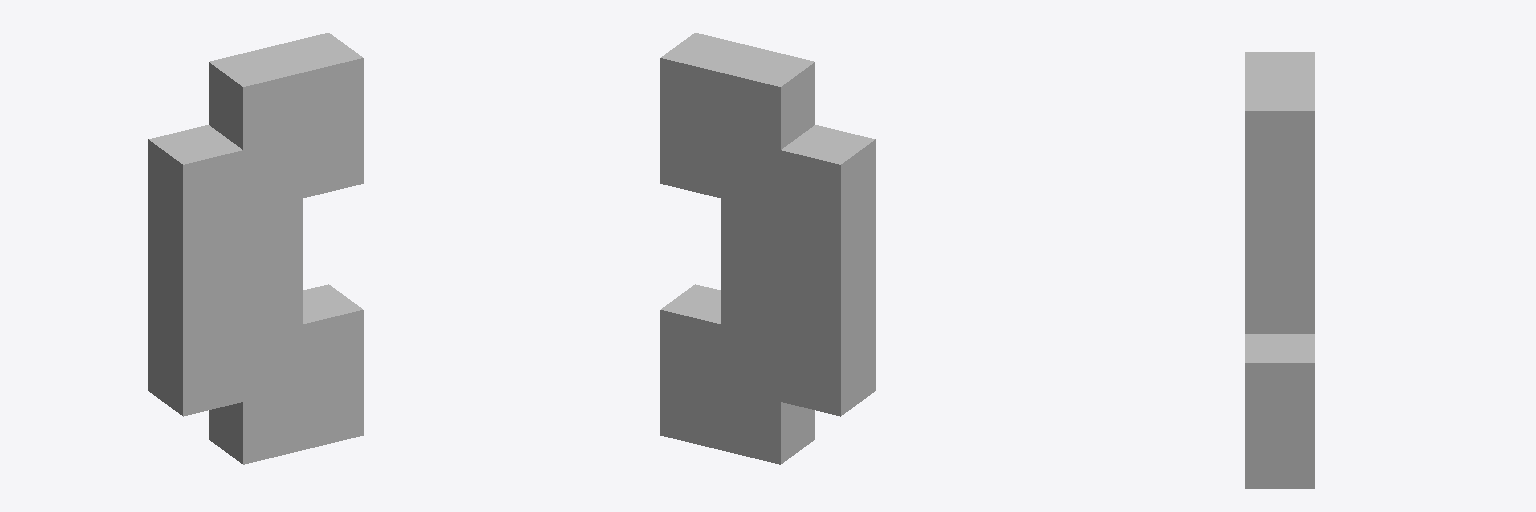
File: Pez Payaso-0.obj
3 renders of one model, left to right at view 1: azimuth 30°, elevation 25°; view 2: azimuth 150°, elevation 25°; view 3: azimuth 270°, elevation 25°, orthographic.
Visible parts, largest first — view 1: object 1; view 2: object 1; view 3: object 1.
Boxes of the visible parts, x1=… form: object 1: x1=148, y1=33, x2=363, y2=464; object 1: x1=660, y1=33, x2=875, y2=464; object 1: x1=1245, y1=52, x2=1314, y2=488.
Size of the model in its own units: 0.3 by 0.6 by 0.1.